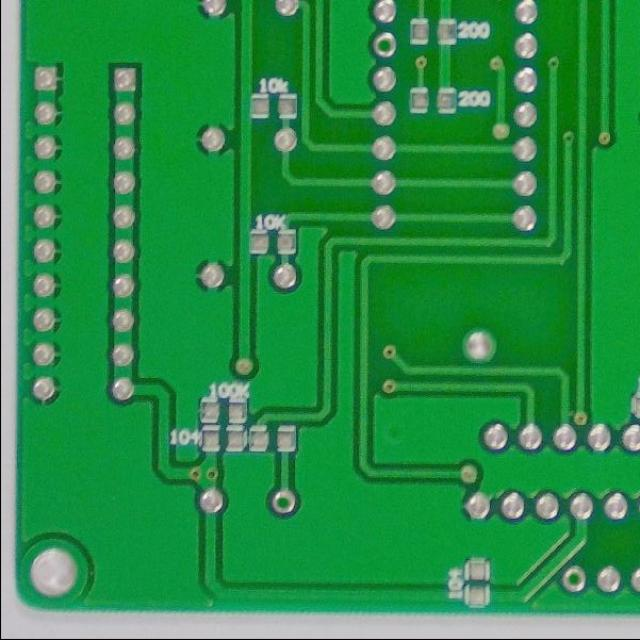missing_hole: (369, 29, 398, 65), (270, 488, 298, 518), (559, 570, 588, 595)
